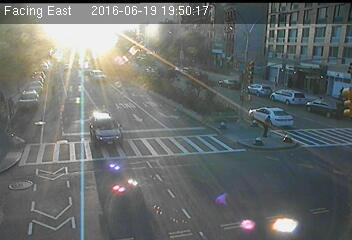neg: (89, 99, 121, 142), (67, 44, 99, 87), (292, 20, 319, 56), (208, 83, 233, 117), (208, 164, 233, 197), (278, 183, 302, 215), (20, 95, 43, 126), (43, 159, 65, 188), (118, 183, 140, 212), (161, 190, 181, 217), (278, 134, 298, 160), (135, 32, 155, 58), (310, 75, 328, 100), (162, 112, 180, 136), (274, 73, 290, 95), (217, 44, 233, 66), (242, 120, 258, 140)
pos: (260, 109, 279, 134)
